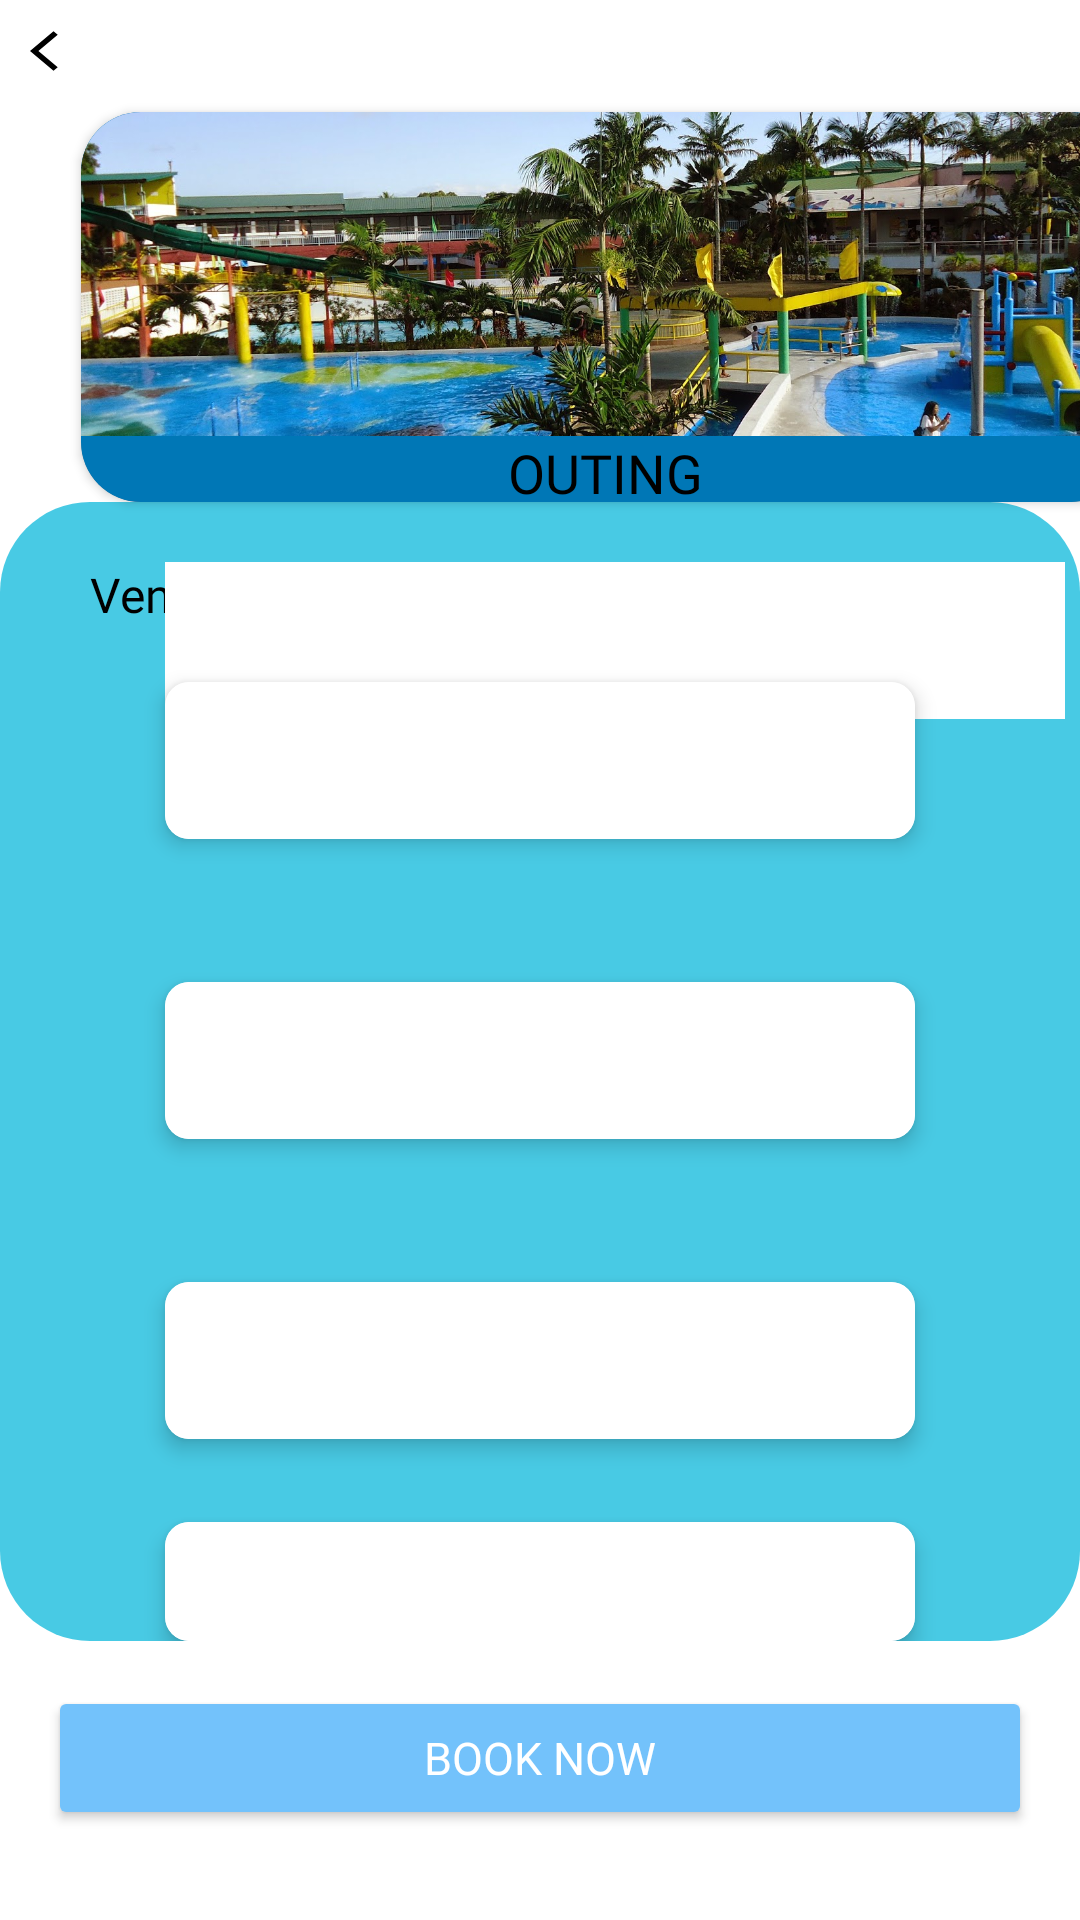

Icons on this 1080×1920 Android screen, each with its box as (x1, y1, x2, y2):
Back: (30, 31, 58, 71)
